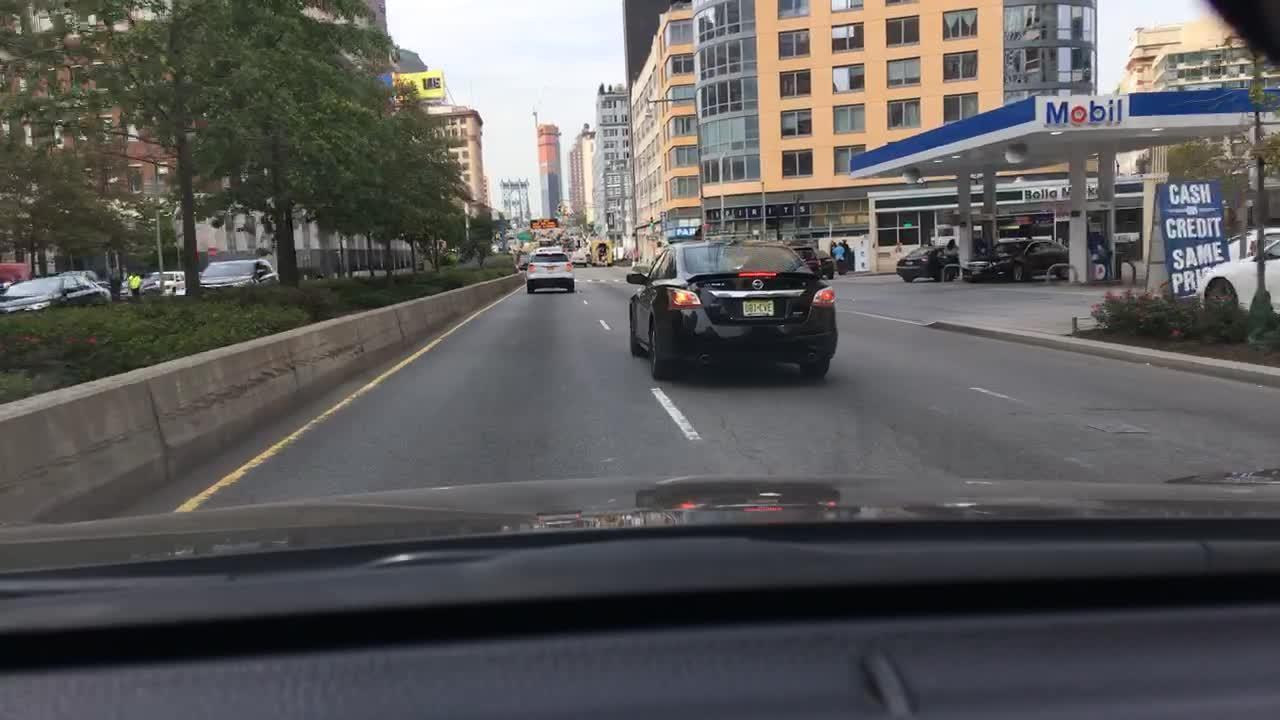Nissan: (751, 276, 768, 294)
